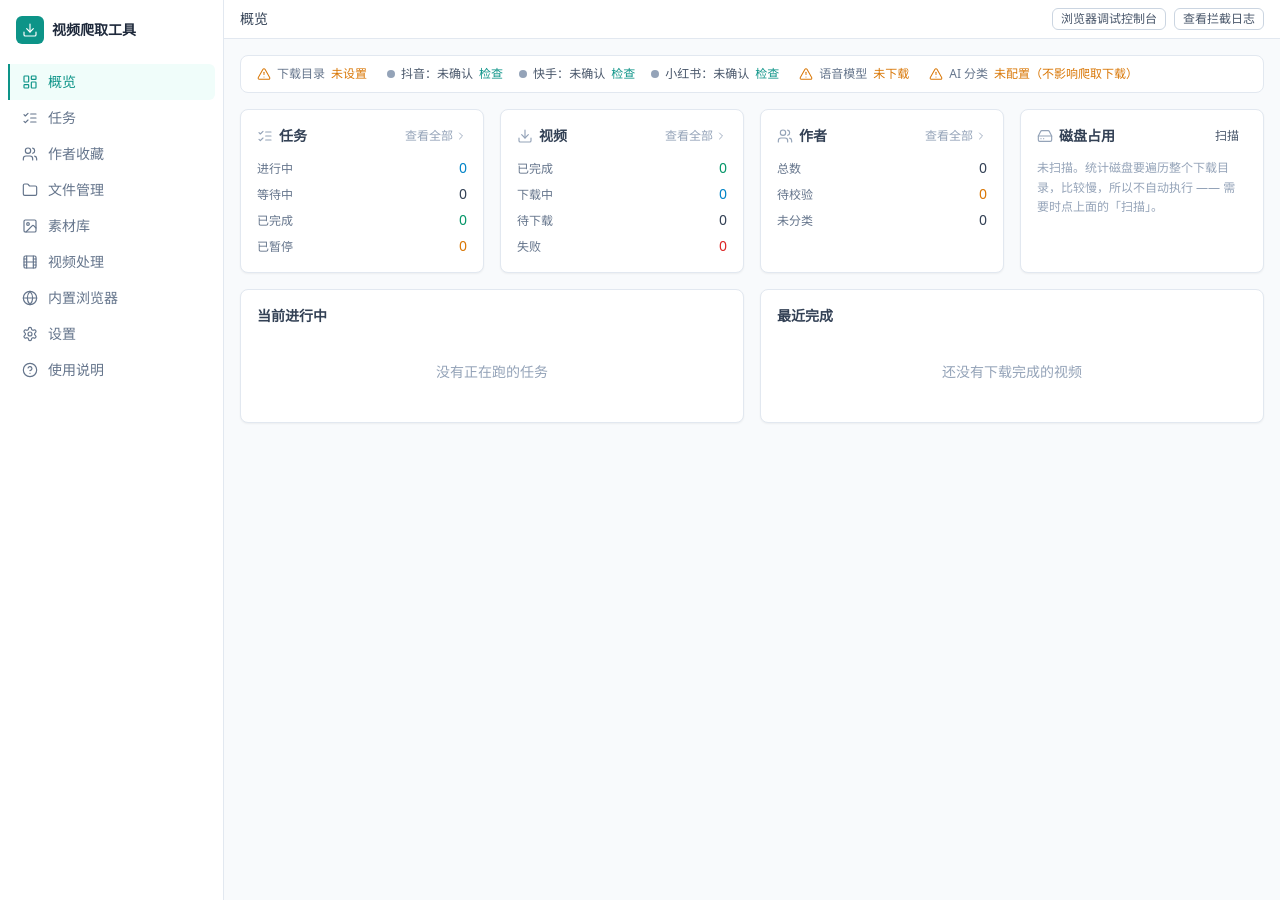
it: App：左侧导航顺序与「视频处理」页 › 点「视频处理」渲染处理页（标题与开始按钮），并拉取一次当前处理状态
Step 1. Click the button "视频处理" → (112, 262), box x1=8 y1=244 x2=215 y2=280
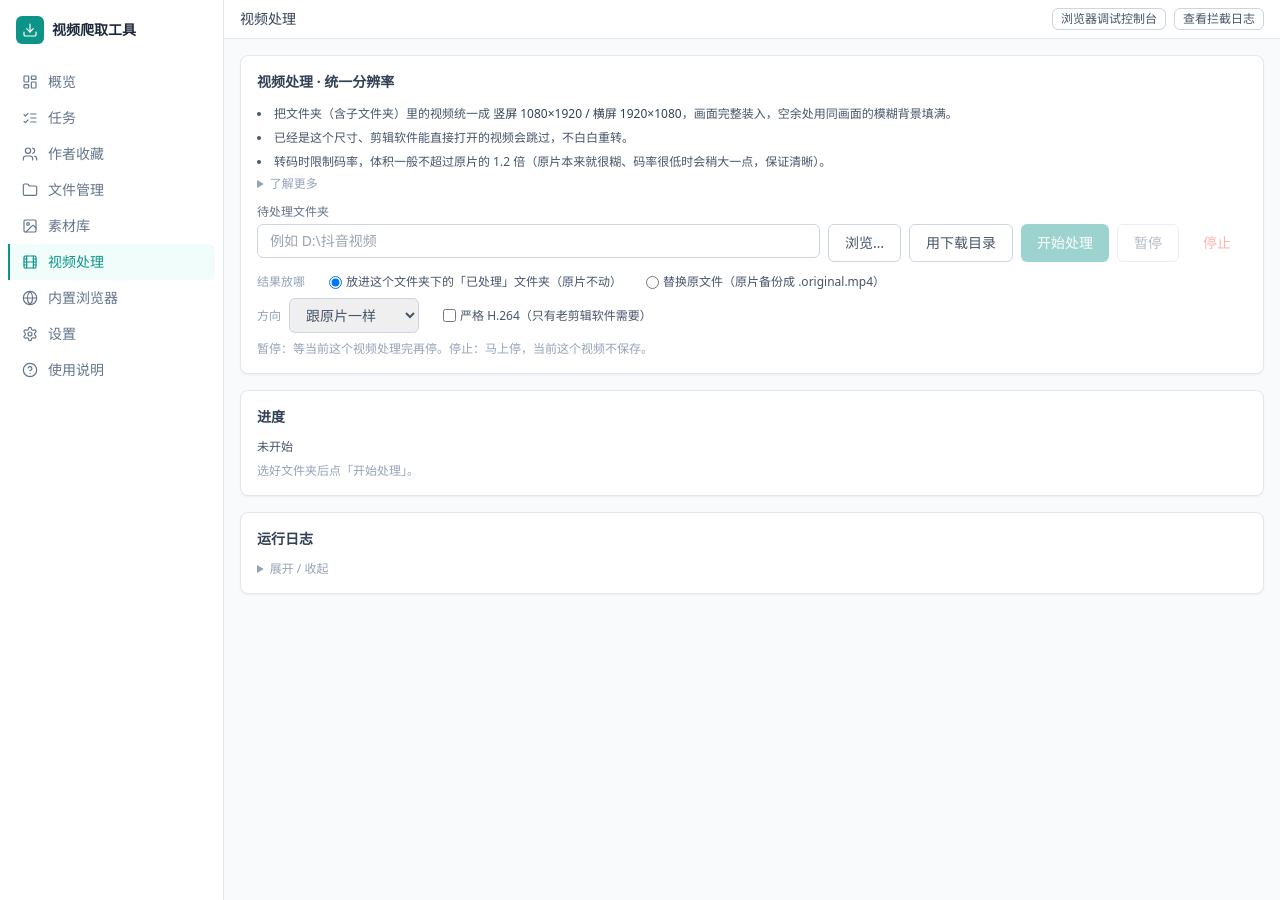
Check: the button "开始处理" is shown, box x1=1021 y1=224 x2=1109 y2=262
Check: the heading "视频处理 · 统一分辨率" is shown, box x1=257 y1=72 x2=394 y2=91
